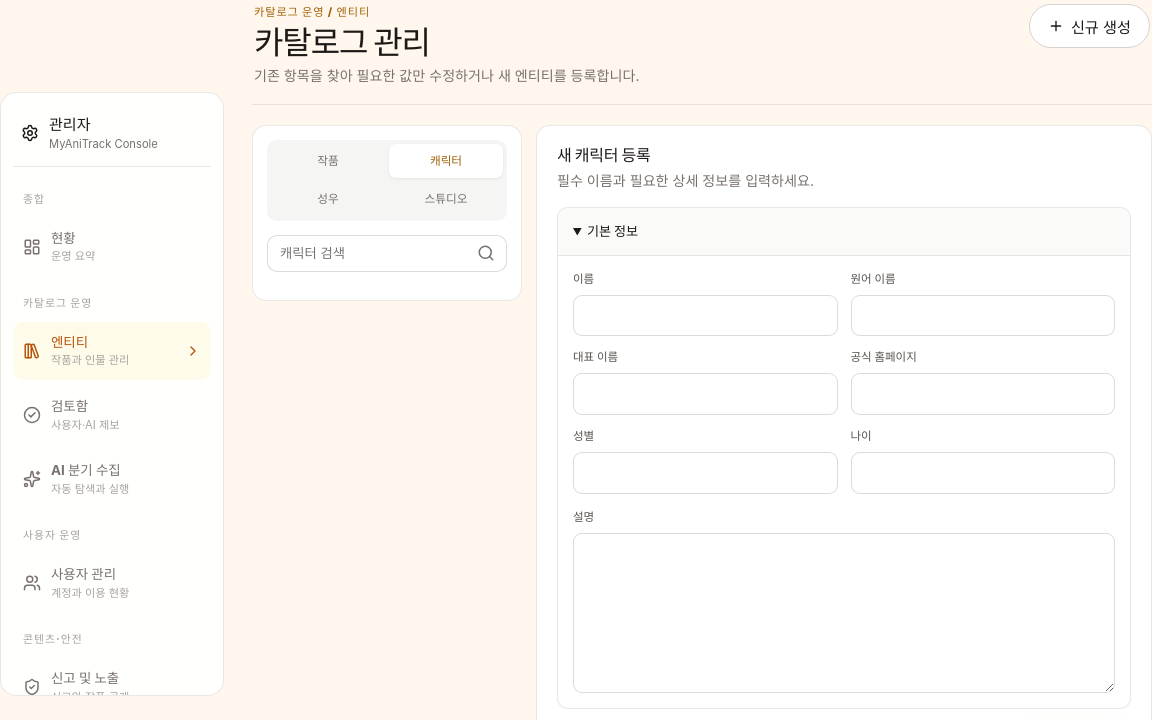
Test: admin console › keeps only the latest detail when search results are selected rapidly
Type "번째" into the search field with placeholder "캐릭터 검색". click: (367, 253)
box: [268,236,466,271]
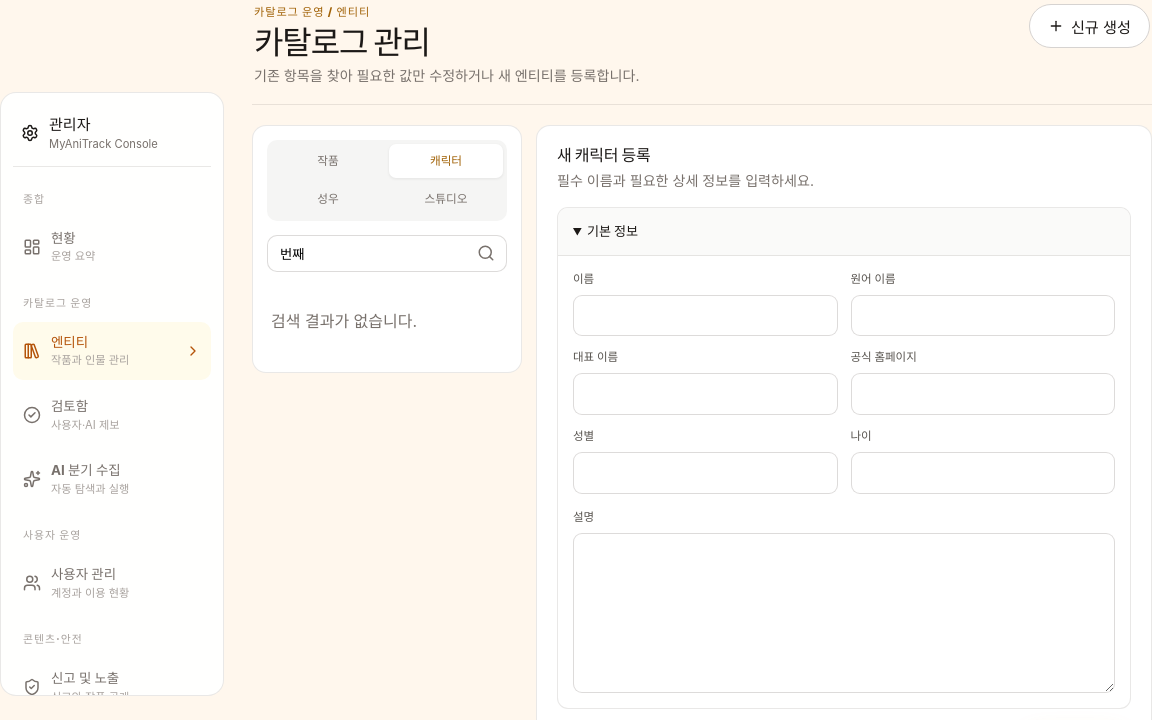
Click the button named "검색". click: (486, 253)
box: [466,236,506,271]
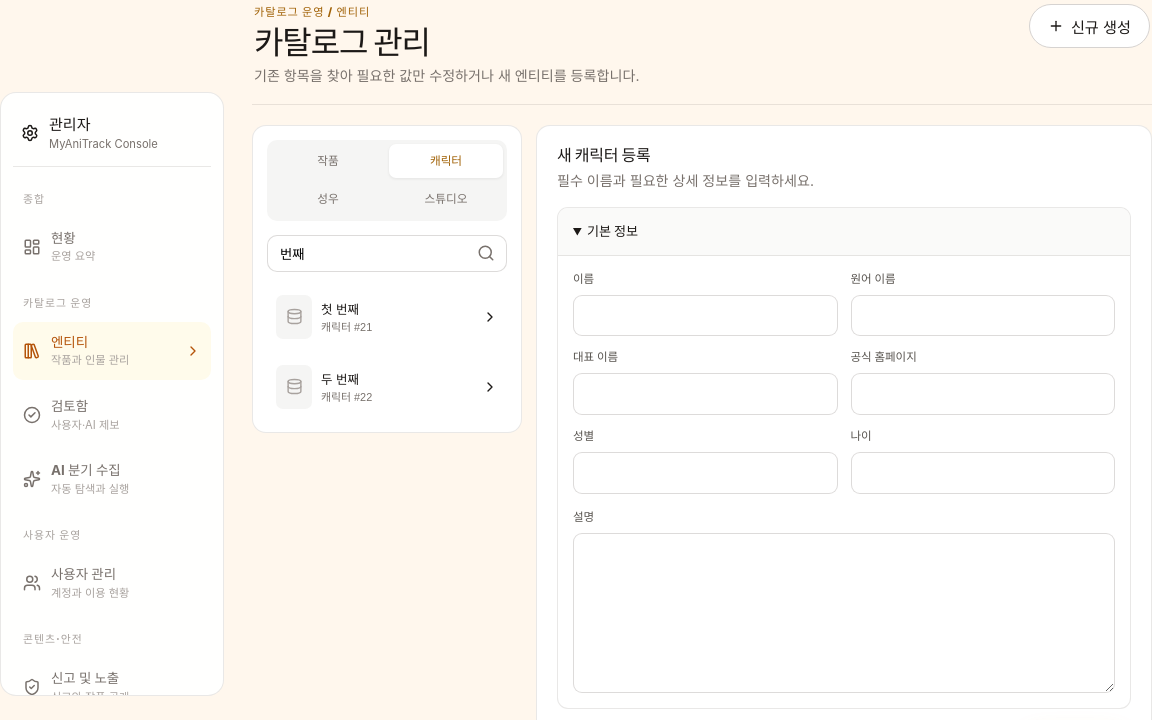
Click the button "첫 번째 캐릭터 #21". click: (387, 317)
box: [267,286,507,348]
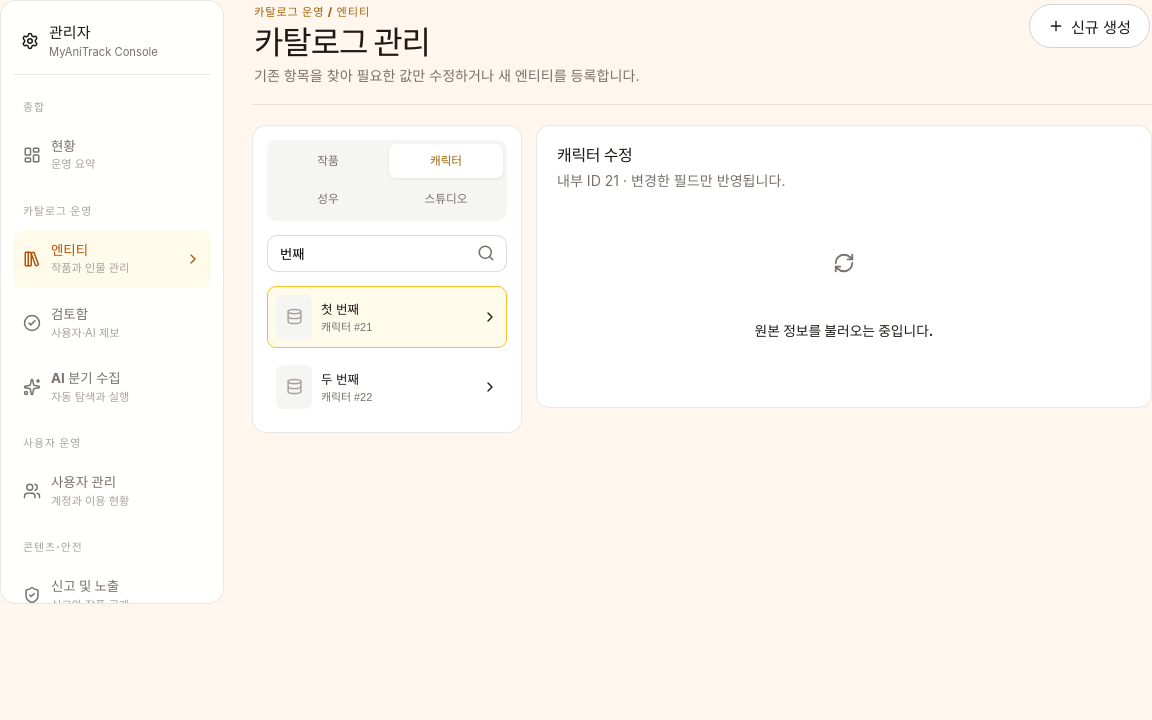
Click the button "두 번째 캐릭터 #22". click: (387, 387)
box: [267,356,507,418]
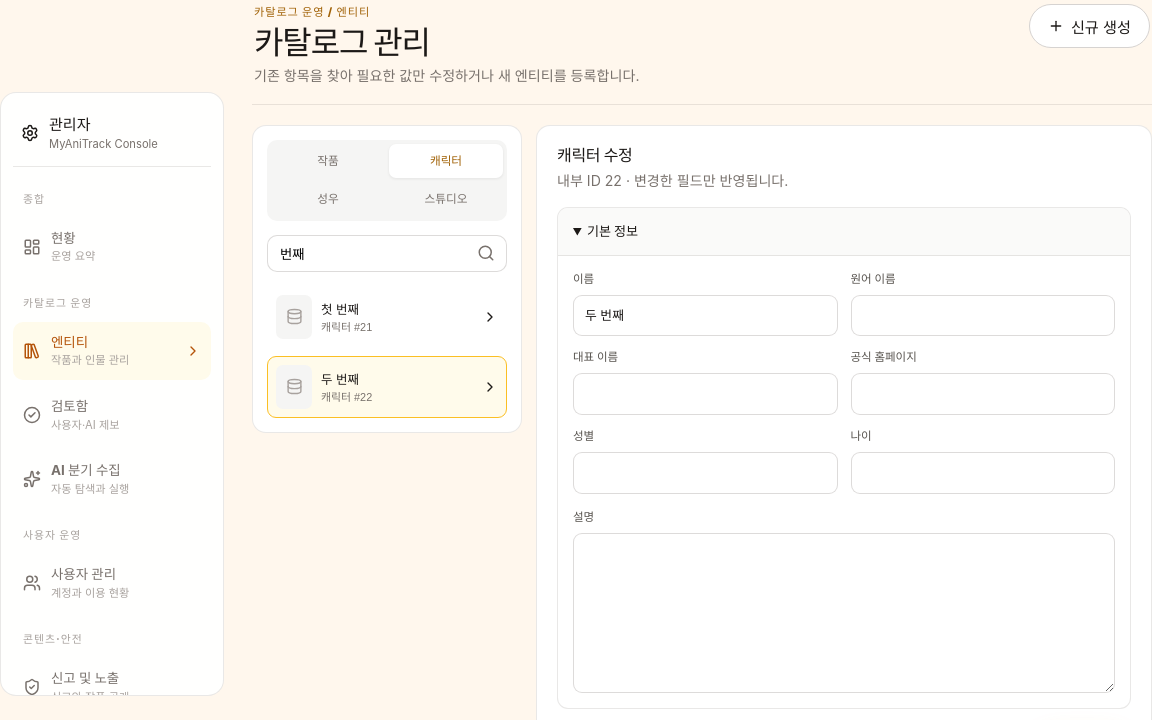
Expected: the field showing "두 번째" is shown, [573,294,838,336]
